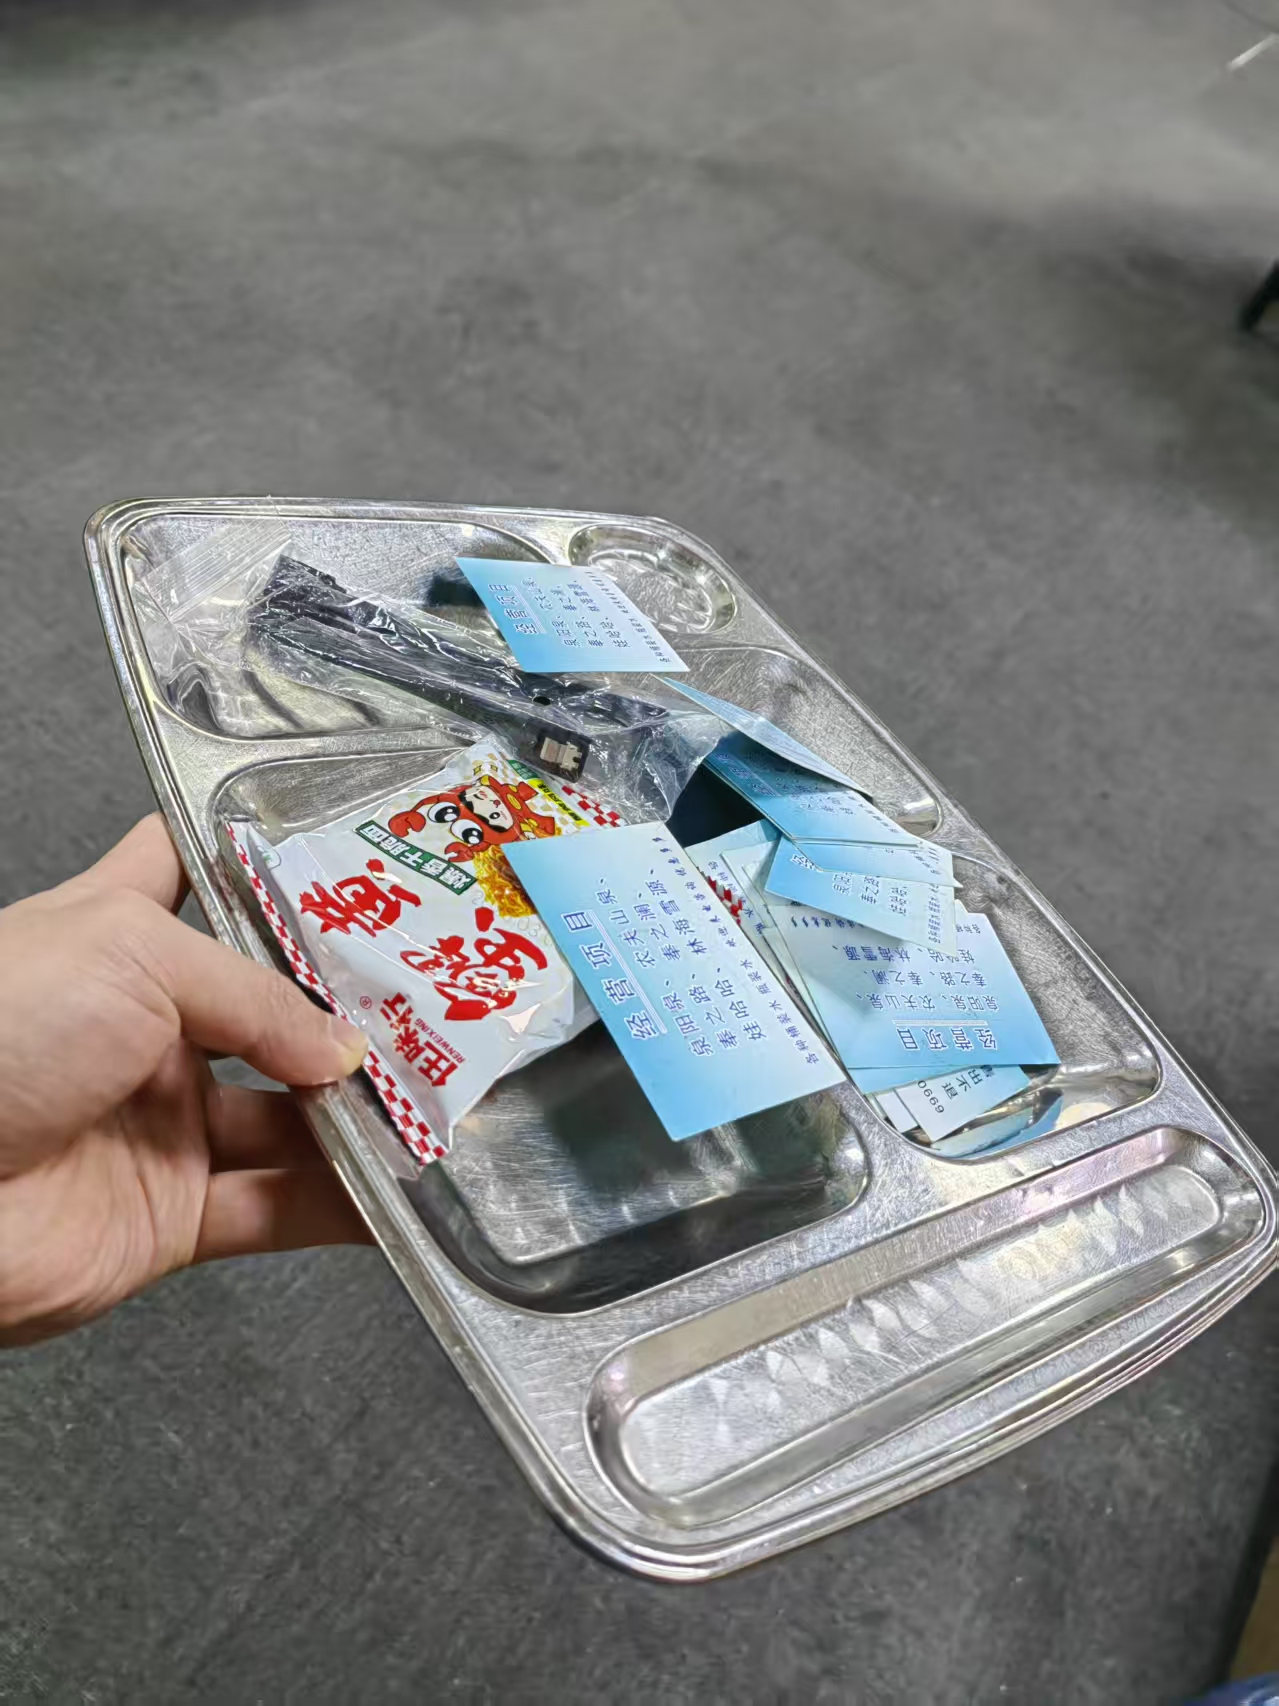moderate: (236, 552, 1072, 1152)
plate: (80, 495, 1279, 1585)
